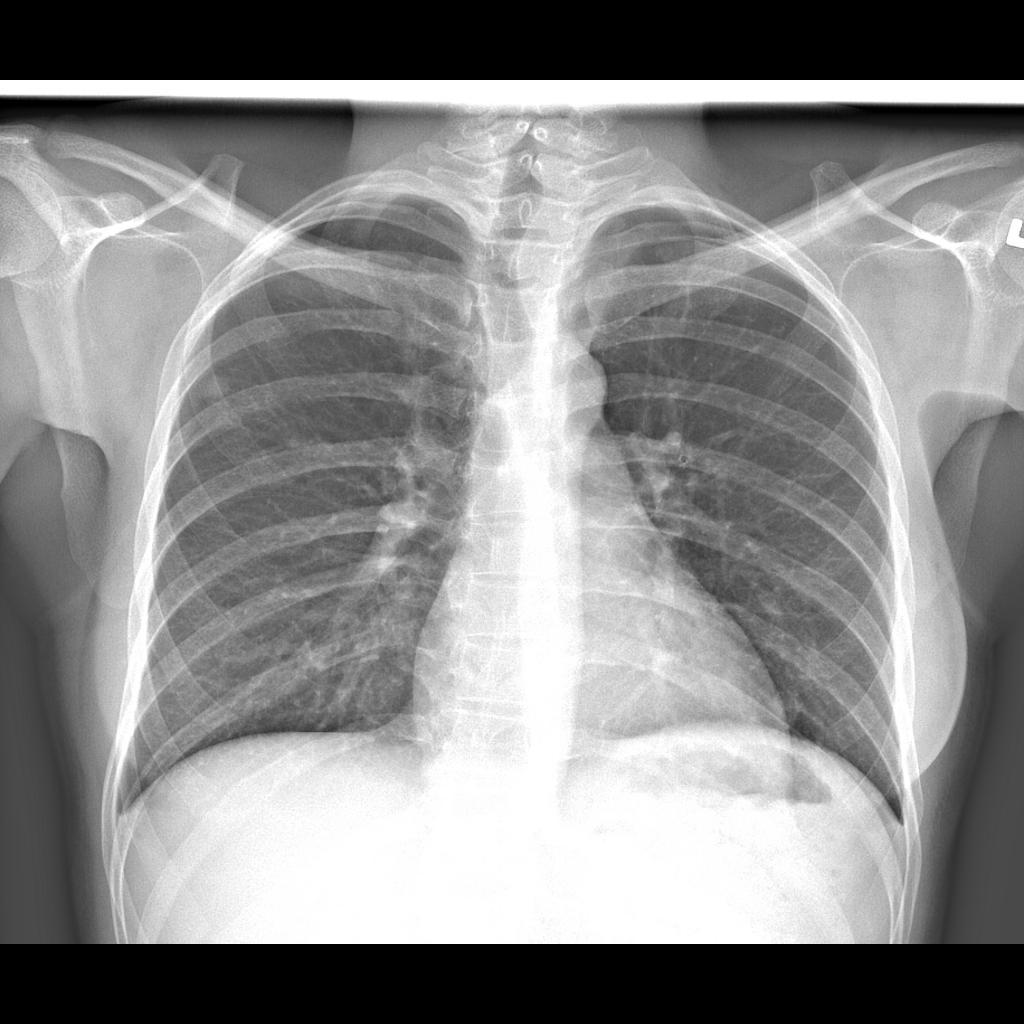Nodule: (191, 373, 235, 408)
